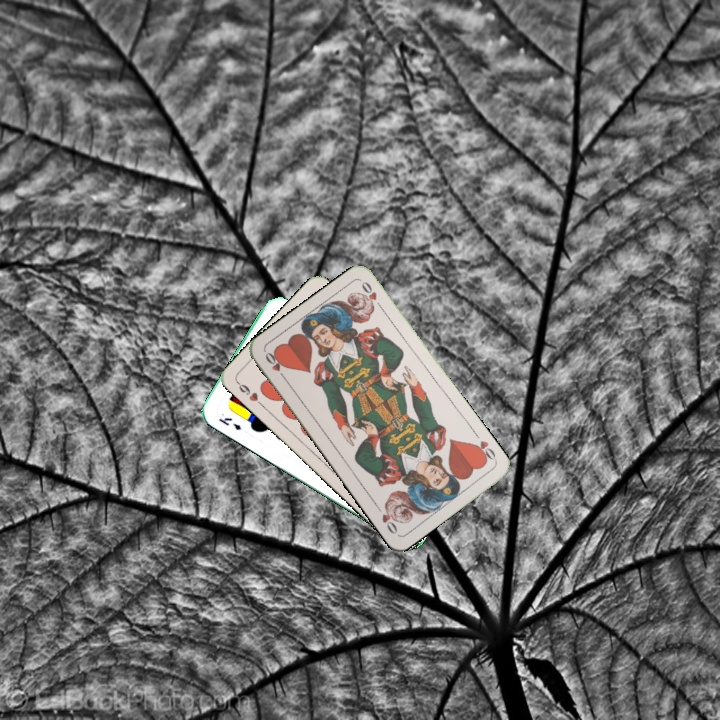EK: (214, 413, 244, 433)
H9: (233, 377, 266, 409)
HO: (261, 348, 290, 383), (469, 436, 499, 465)
